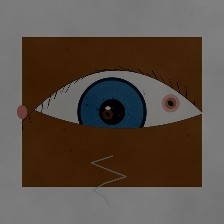foreign_body_visible: (154, 90, 187, 116)
